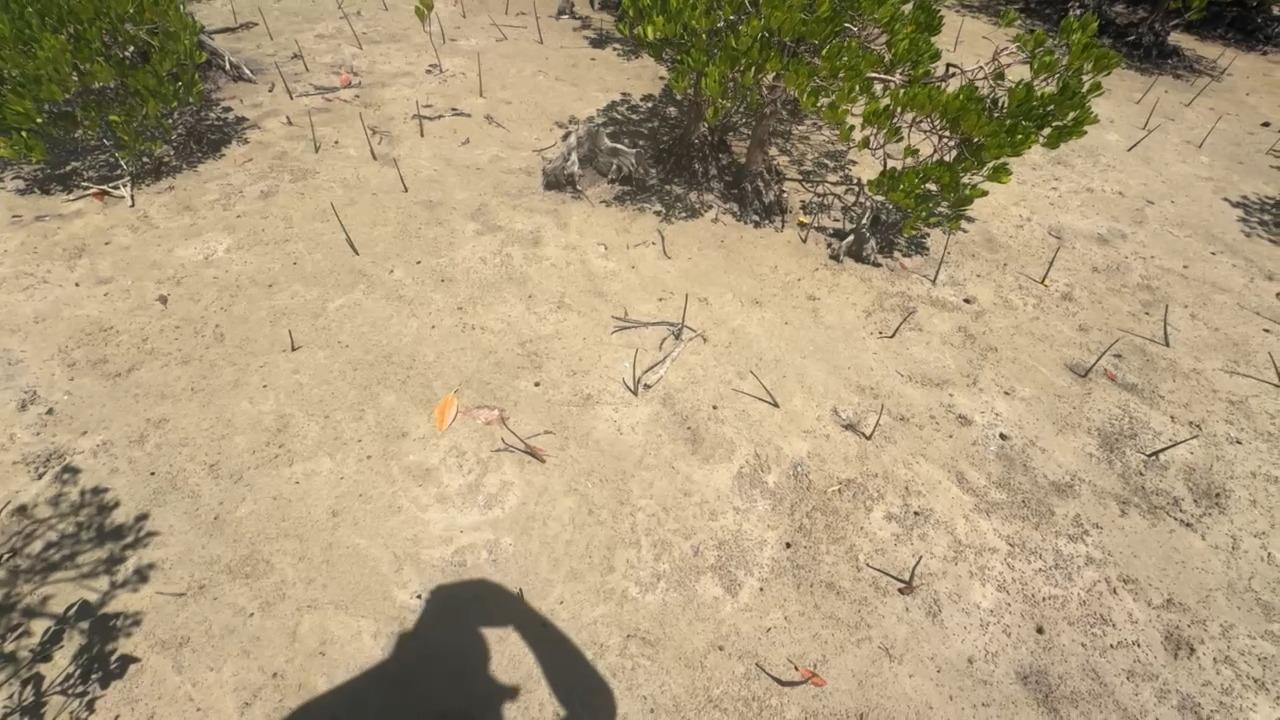Tree: (328, 200, 359, 257), (1083, 336, 1123, 379), (1184, 65, 1219, 107), (335, 0, 363, 51), (748, 368, 781, 409), (1148, 434, 1200, 460), (931, 231, 952, 284), (1126, 125, 1162, 154), (358, 111, 378, 162), (1197, 115, 1224, 149), (1041, 244, 1062, 285), (274, 58, 294, 101), (866, 401, 886, 441), (1135, 73, 1160, 104), (891, 310, 917, 338), (392, 157, 409, 194), (294, 39, 311, 74), (1142, 98, 1160, 130), (258, 6, 274, 41), (489, 16, 509, 43), (307, 109, 319, 154), (907, 555, 924, 585), (532, 0, 543, 45), (1163, 304, 1173, 348), (953, 19, 966, 52), (1267, 351, 1280, 382), (415, 99, 425, 139), (435, 12, 446, 46), (1221, 53, 1237, 74), (477, 51, 483, 98), (1190, 69, 1200, 88), (230, 4, 238, 25), (459, 0, 467, 19), (288, 327, 294, 352), (505, 0, 511, 15), (381, 0, 388, 11)
